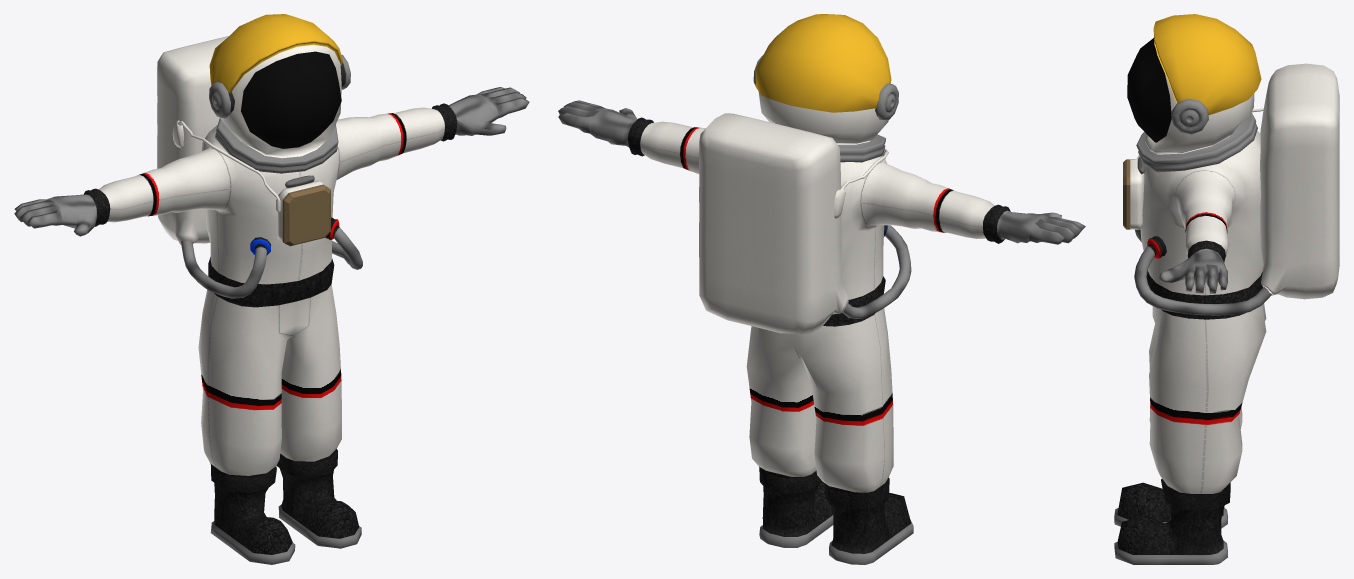
The model's file is astro3.fbx.
3 renders of one model, left to right at view 1: azimuth 30°, elevation 25°; view 2: azimuth 150°, elevation 25°; view 3: azimuth 270°, elevation 25°, orthographic. The views are drawn at different scales.
Parts seen in each view (by area): view 1: pCube3, pCylinder3, pCube2, pSphere3, pCube10, pCylinder5, pCylinder19, pCylinder2; view 2: pCube3, pCube2, pSphere3, pCylinder3, pCylinder5, pCylinder2; view 3: pCube3, pCube2, pCylinder3, pSphere3, pCylinder19, pCylinder18, pCube4, pCube10.
Part boxes in pixels (x1=…): pCube3: x1=14, y1=87, x2=529, y2=564; pCylinder3: x1=214, y1=44, x2=341, y2=173; pCube2: x1=157, y1=35, x2=229, y2=244; pSphere3: x1=209, y1=14, x2=342, y2=93; pCube10: x1=282, y1=184, x2=330, y2=246; pCylinder5: x1=180, y1=240, x2=266, y2=298; pCylinder19: x1=332, y1=225, x2=362, y2=269; pCylinder2: x1=209, y1=81, x2=234, y2=118; pCube3: x1=558, y1=100, x2=1085, y2=564; pCube2: x1=699, y1=113, x2=848, y2=333; pSphere3: x1=755, y1=14, x2=891, y2=112; pCylinder3: x1=758, y1=92, x2=888, y2=162; pCylinder5: x1=842, y1=225, x2=911, y2=318; pCylinder2: x1=875, y1=83, x2=898, y2=119; pCube3: x1=1114, y1=130, x2=1266, y2=564; pCube2: x1=1260, y1=63, x2=1339, y2=299; pCylinder3: x1=1127, y1=38, x2=1257, y2=172; pSphere3: x1=1153, y1=14, x2=1261, y2=115; pCylinder19: x1=1134, y1=244, x2=1271, y2=315; pCylinder18: x1=1171, y1=98, x2=1208, y2=134; pCube4: x1=1130, y1=159, x2=1144, y2=229; pCube10: x1=1123, y1=159, x2=1130, y2=229.
Bounding box in the file's own units: 18.01 × 17.42 × 6.85.
